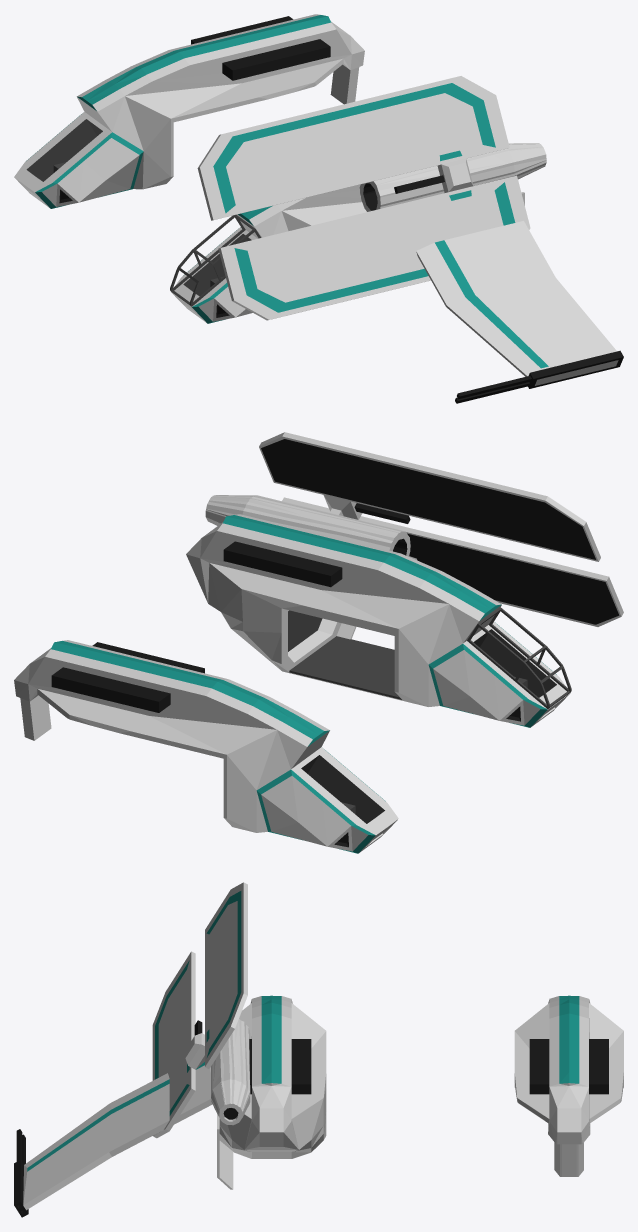
File: Dropship.fbx
3 renders of one model, top to bottom at view 1: azimuth 30°, elevation 25°; view 2: azimuth 150°, elevation 25°; view 3: azimuth 270°, elevation 25°, orthographic. The views are drawn at different scales.
Visible parts, largest first — view 1: Wing 2 Panel, Dropship, Wing 1, Gunship, Wing 2, Glass; view 2: Gunship, Dropship, Wing 2 Panel, Wing 1, Wing 2, Glass; view 3: Dropship, Gunship, Wing 2 Panel, Wing 1, Wing 2, Door.
Boxes of the visible parts, <box> form: Wing 2 Panel: <box>197,76,530,320</box>; Dropship: <box>14,14,364,208</box>; Wing 1: <box>359,143,623,403</box>; Gunship: <box>171,184,366,323</box>; Wing 2: <box>360,144,546,211</box>; Glass: <box>170,215,260,306</box>; Gunship: <box>186,514,570,727</box>; Dropship: <box>14,640,398,853</box>; Wing 2 Panel: <box>259,432,623,626</box>; Wing 1: <box>205,495,417,560</box>; Wing 2: <box>206,495,410,556</box>; Glass: <box>467,607,571,708</box>; Dropship: <box>514,995,623,1176</box>; Gunship: <box>219,995,326,1158</box>; Wing 2 Panel: <box>152,882,247,1138</box>; Wing 1: <box>14,1021,250,1217</box>; Wing 2: <box>211,1019,250,1125</box>; Door: <box>217,1114,233,1189</box>.
Size of the model in its own units: 1882 by 1140 by 3075.
